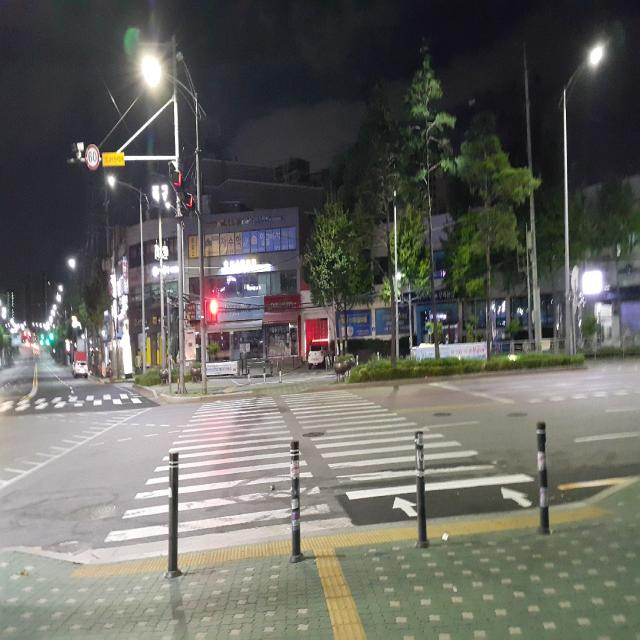빨간불: (210, 296, 219, 324)
횡단보도: (103, 387, 537, 547), (1, 393, 145, 412)
